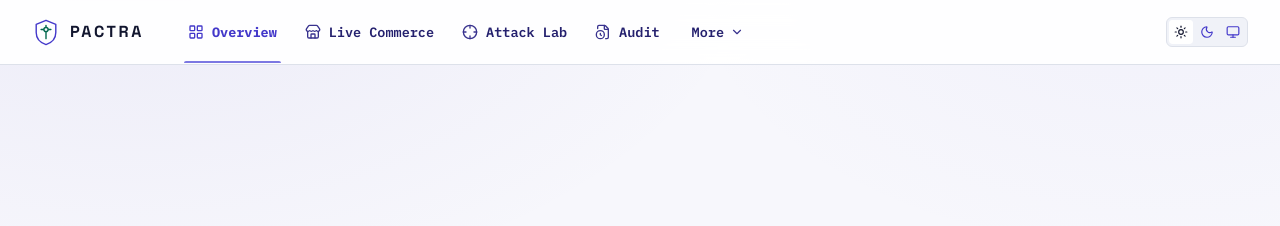
Test case: Navbar (Phase 2 App Shell) › 16. Escape key closes More menu
This screenshot has width=1280, height=226.
Click the button with aria-label "Secondary navigation options".
click(718, 32)  # box left=680, top=14, right=756, bottom=50
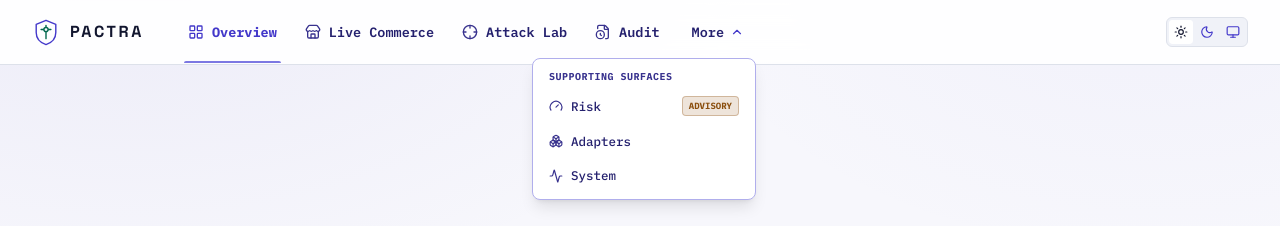
Check: the menu item "Risk ADVISORY" is shown, box left=549, top=96, right=739, bottom=116
Press Escape
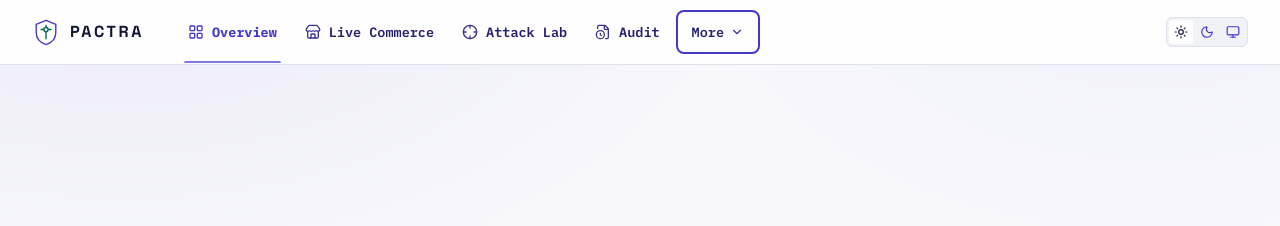
Check: the menu item "Risk" is gone
